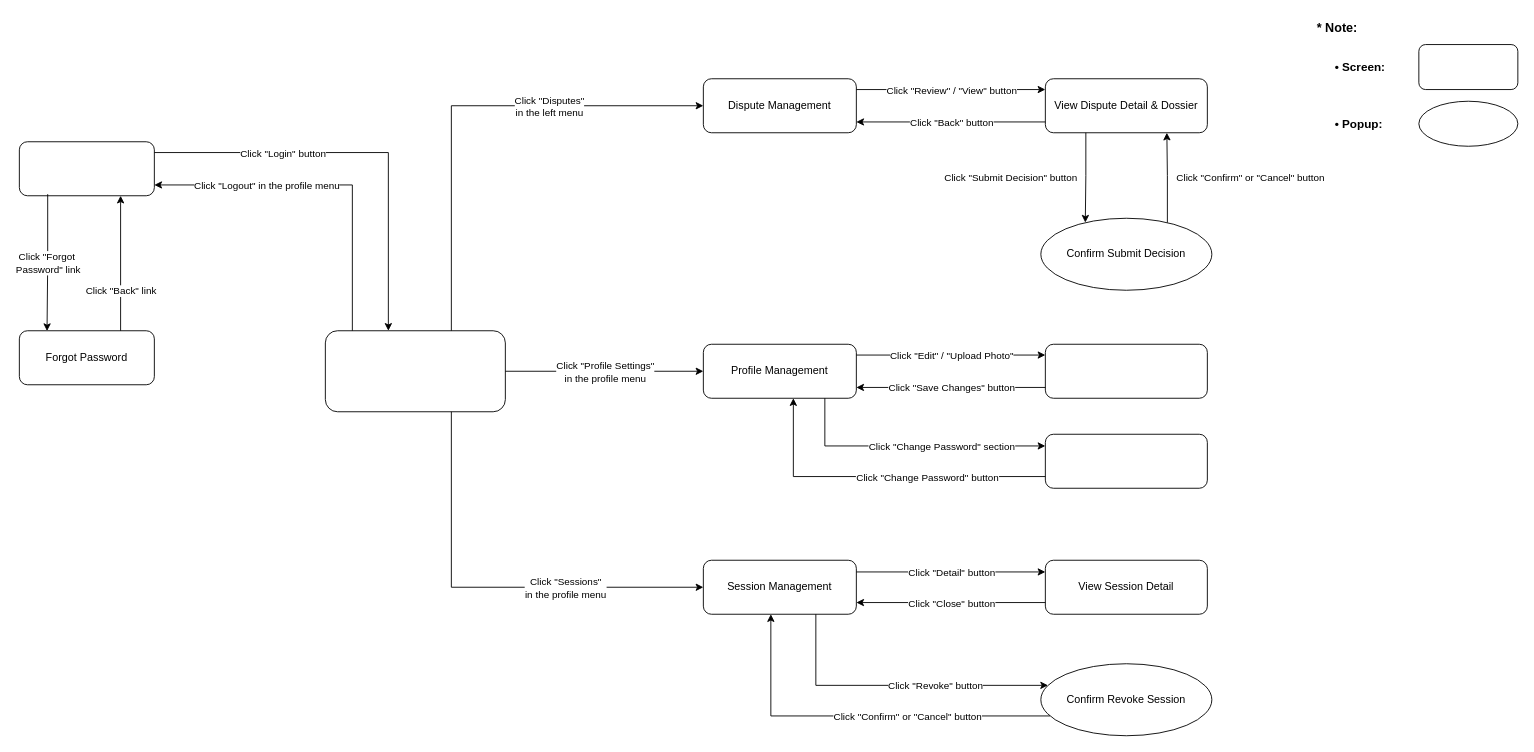
Some shapes in this 1534 by 752 pixel diagram are drawn without their labels. The box of each missing label's shape, as (x1, y1, x2, y2) in pixels:
Change Password: (1044, 433, 1207, 488)
Dashboard: (324, 330, 505, 412)
Login: (18, 141, 154, 196)
Update Profile & Avatar: (1044, 343, 1207, 398)
